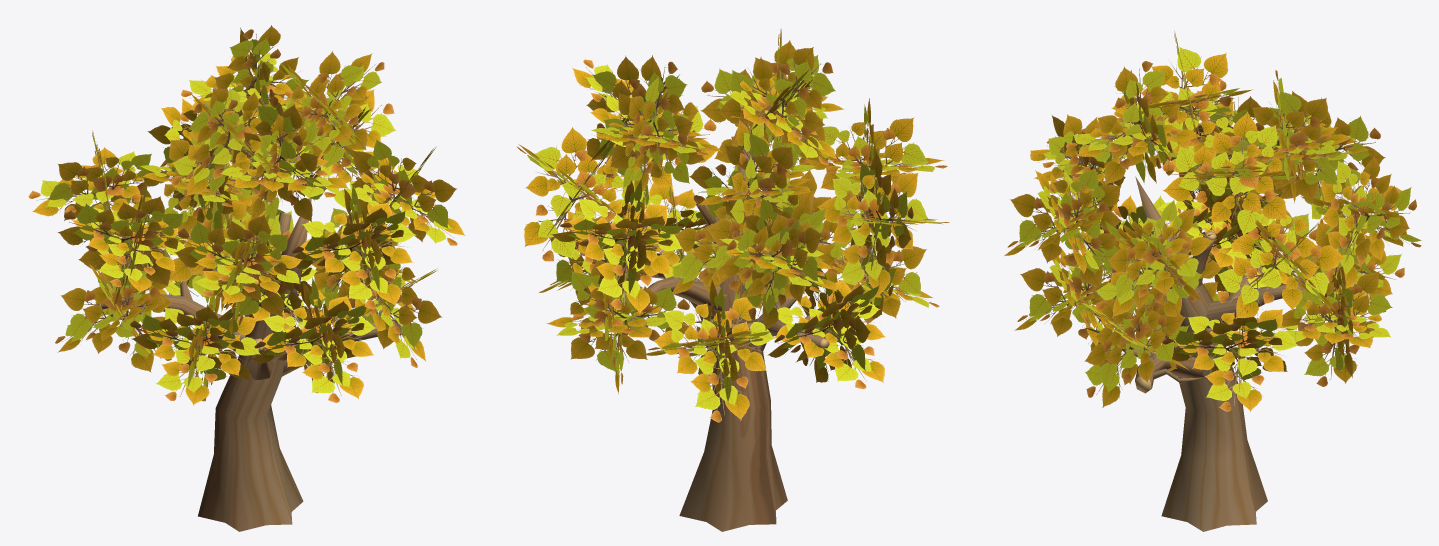
File: Tree_03.FBX
3 renders of one model, left to right at view 1: azimuth 30°, elevation 25°; view 2: azimuth 150°, elevation 25°; view 3: azimuth 270°, elevation 25°, orthographic. The views are drawn at different scales.
Visible parts, largest first — view 1: Leaf, Trunk; view 2: Leaf, Trunk; view 3: Leaf, Trunk.
Part boxes in pixels (<box>): Leaf: <box>28,25,465,405</box>; Trunk: <box>100,198,401,531</box>; Leaf: <box>517,28,949,422</box>; Trunk: <box>647,126,829,531</box>; Leaf: <box>1004,30,1421,411</box>; Trunk: <box>1086,176,1335,531</box>.
Size of the model in its own units: 365 by 427 by 358.
2 materials, 2 textured.
